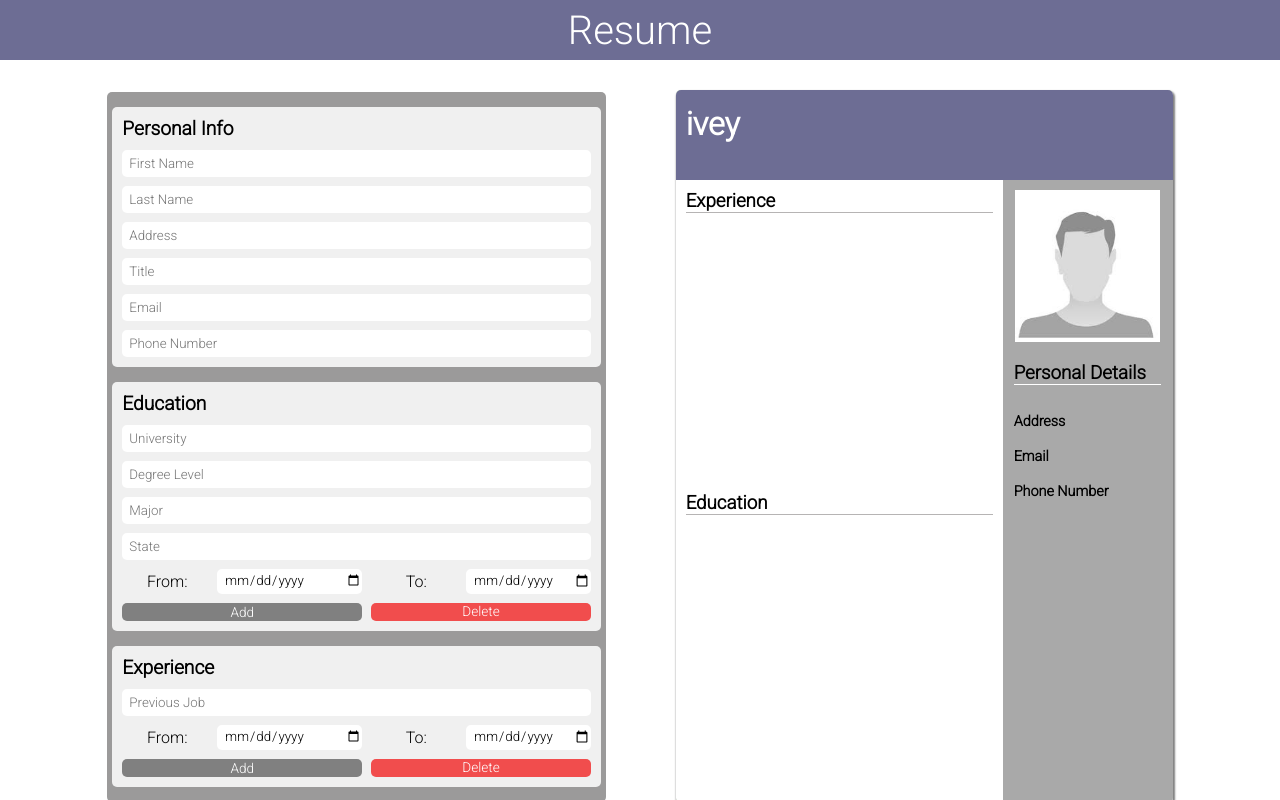
Test: Personal info section is taking input and rendering via state read › address input entry typed into and rendered onto resume container
The image size is (1280, 800).
Type "123 address" into the field with placeholder "Address". click: (356, 235)
box: x1=122 y1=222 x2=591 y2=248
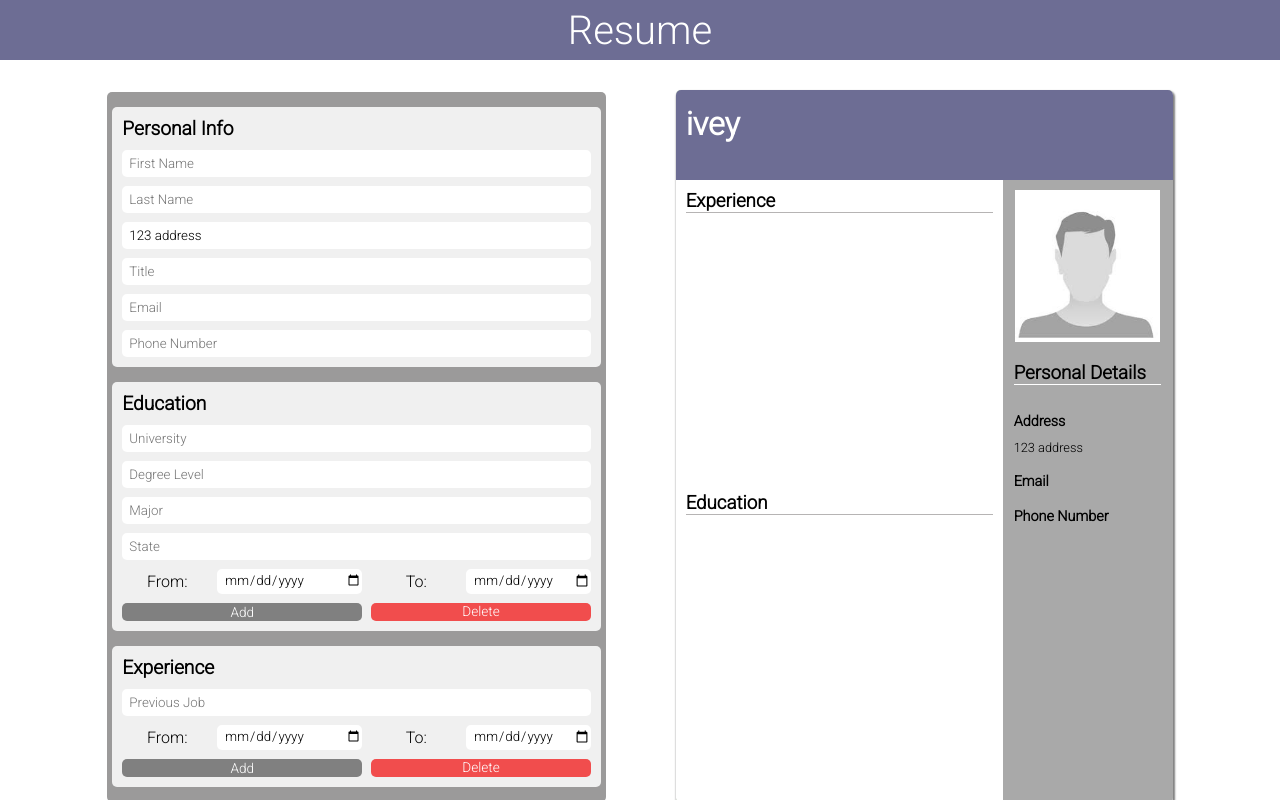
Expected: the text "123 address" is shown, x1=1014 y1=440 x2=1083 y2=455
